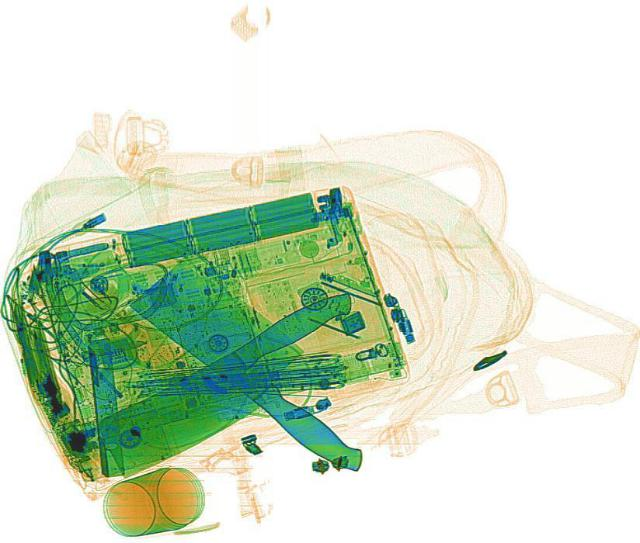Knife: (117, 257, 413, 474), (75, 285, 391, 477)
